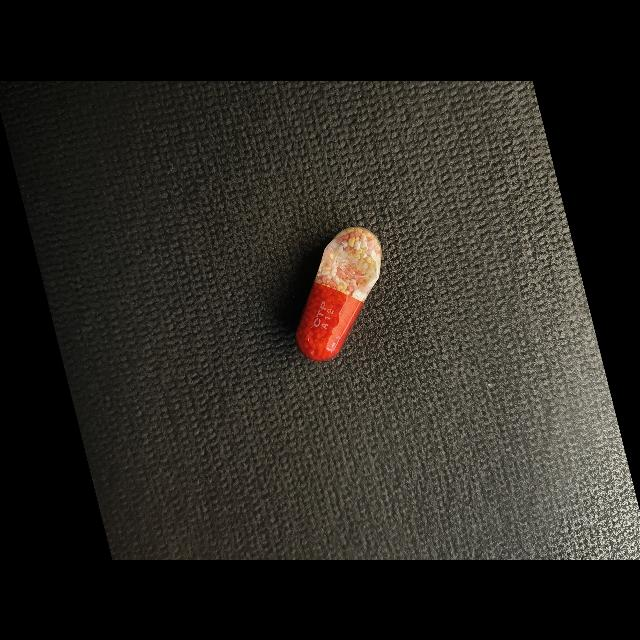Defective Capsule: (296, 226, 382, 360)
